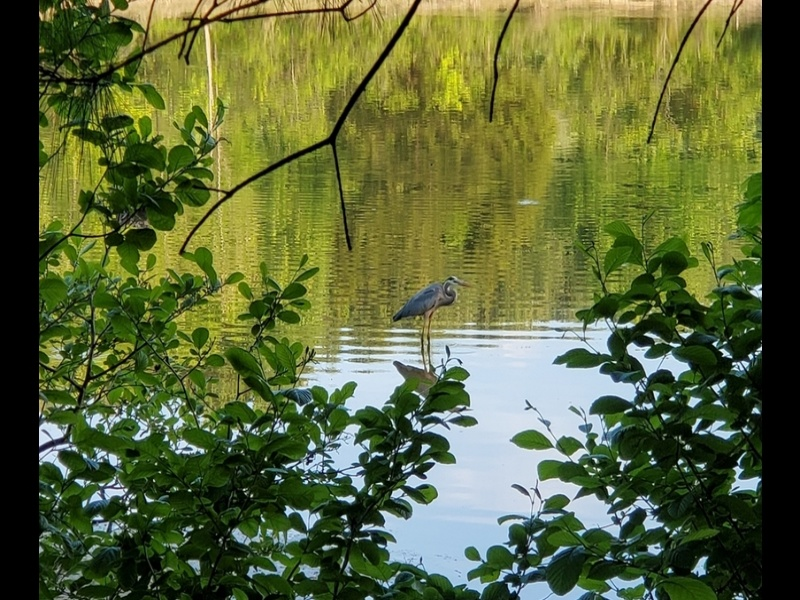heron: (390, 272, 471, 346)
